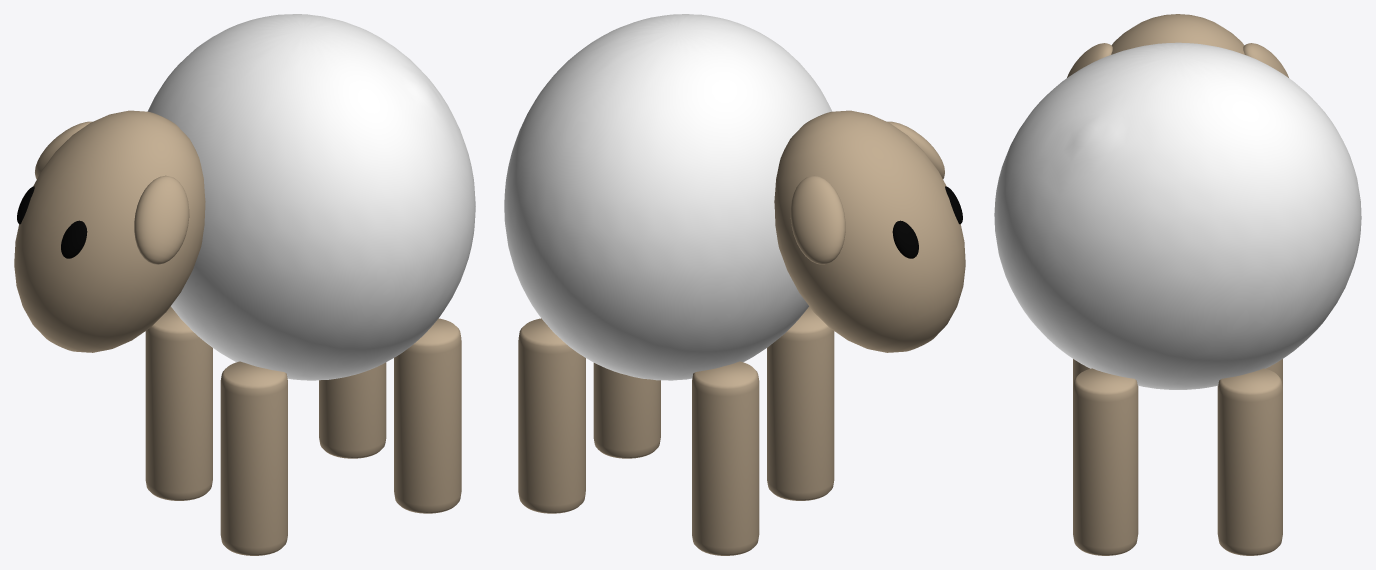
File: sheep.fbx
The picture shows the model from 3 angles, left to right: view 1: azimuth 30°, elevation 25°; view 2: azimuth 150°, elevation 25°; view 3: azimuth 270°, elevation 25°; orthographic projection. The views are drawn at different scales.
Visible parts, largest first — view 1: Sheep.010, Head.010, Cylinder.043, Cylinder.044, Cylinder.041, Cylinder.042, Sphere.043, Sphere.045, Sphere.044; view 2: Sheep.010, Head.010, Cylinder.041, Cylinder.042, Cylinder.043, Cylinder.044, Sphere.044, Sphere.046, Sphere.043; view 3: Sheep.010, Cylinder.044, Cylinder.042, Head.010, Sphere.043, Sphere.044.
Boxes of the visible parts, bbox=[...] form: Sheep.010: bbox=[147, 14, 475, 380]; Head.010: bbox=[14, 110, 205, 352]; Cylinder.043: bbox=[220, 361, 287, 555]; Cylinder.044: bbox=[394, 318, 461, 513]; Cylinder.041: bbox=[145, 306, 212, 500]; Cylinder.042: bbox=[319, 362, 386, 458]; Sphere.043: bbox=[134, 175, 189, 264]; Sphere.045: bbox=[61, 220, 87, 258]; Sphere.044: bbox=[35, 121, 92, 179]; Sheep.010: bbox=[504, 14, 831, 380]; Head.010: bbox=[774, 110, 965, 352]; Cylinder.041: bbox=[692, 361, 759, 555]; Cylinder.042: bbox=[518, 318, 585, 513]; Cylinder.043: bbox=[767, 306, 834, 500]; Cylinder.044: bbox=[593, 363, 660, 458]; Sphere.044: bbox=[790, 175, 845, 264]; Sphere.046: bbox=[892, 220, 918, 258]; Sphere.043: bbox=[887, 121, 944, 178]; Sheep.010: bbox=[994, 42, 1361, 389]; Cylinder.044: bbox=[1073, 368, 1138, 555]; Cylinder.042: bbox=[1217, 368, 1282, 555]; Head.010: bbox=[1111, 14, 1244, 54]; Sphere.043: bbox=[1067, 43, 1112, 77]; Sphere.044: bbox=[1243, 43, 1288, 77].
Size of what is drawn, in the model's own units: 252 by 266 by 198.
